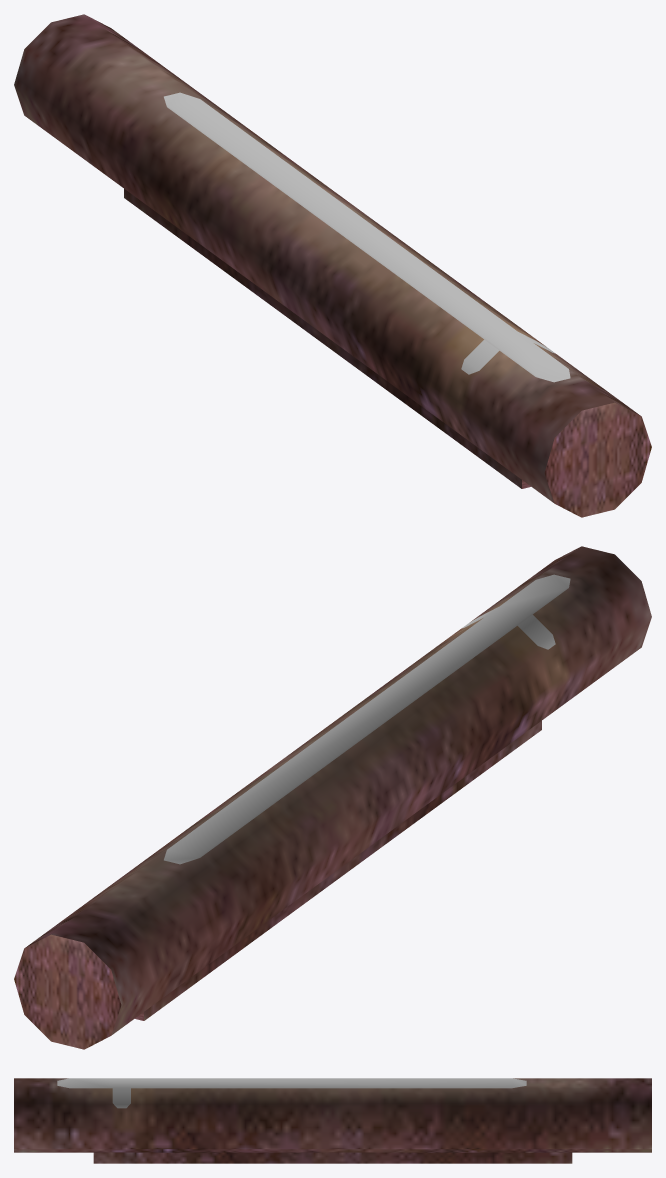
Rendered from light_wall_vertical.fbx.
3 renders of one model, top to bottom at view 1: azimuth 30°, elevation 25°; view 2: azimuth 150°, elevation 25°; view 3: azimuth 270°, elevation 25°, orthographic. The views are drawn at different scales.
Parts seen in each view (by area): view 1: mesh_0; view 2: mesh_0; view 3: mesh_0.
Part boxes in pixels (x1,y1,x2,y2): mesh_0: (14,14,651,517); mesh_0: (14,546,651,1049); mesh_0: (14,1078,651,1163).
Size of the model in its own units: 11.7 by 13.37 by 100.
1 material, 1 textured.
